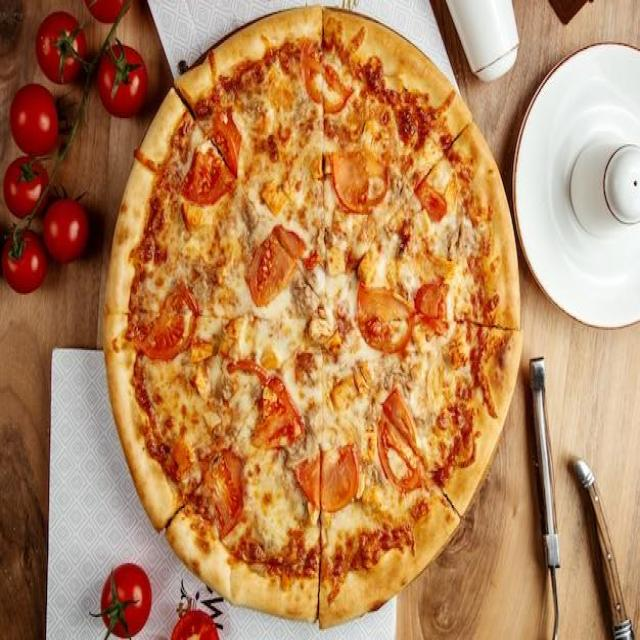pizza: (102, 5, 522, 628)
